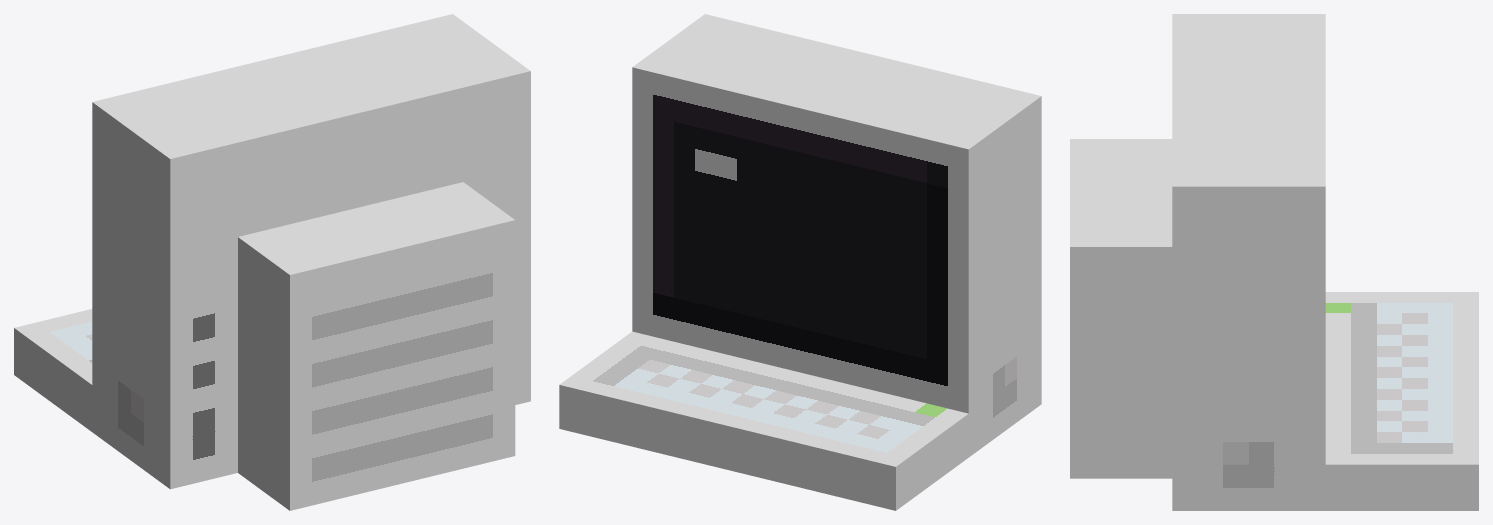
Rendered from computer.gltf.
3 renders of one model, left to right at view 1: azimuth 30°, elevation 25°; view 2: azimuth 150°, elevation 25°; view 3: azimuth 270°, elevation 25°, orthographic. The views are drawn at different scales.
Visible parts, largest first — view 1: mesh; view 2: mesh; view 3: mesh.
Boxes of the visible parts, x1,y1,x2,y2 form: mesh: [14, 14, 530, 510]; mesh: [559, 14, 1041, 510]; mesh: [1070, 14, 1478, 510].
Bounding box in the file's own units: 1 × 0.875 × 1.
1 material, 1 textured.
